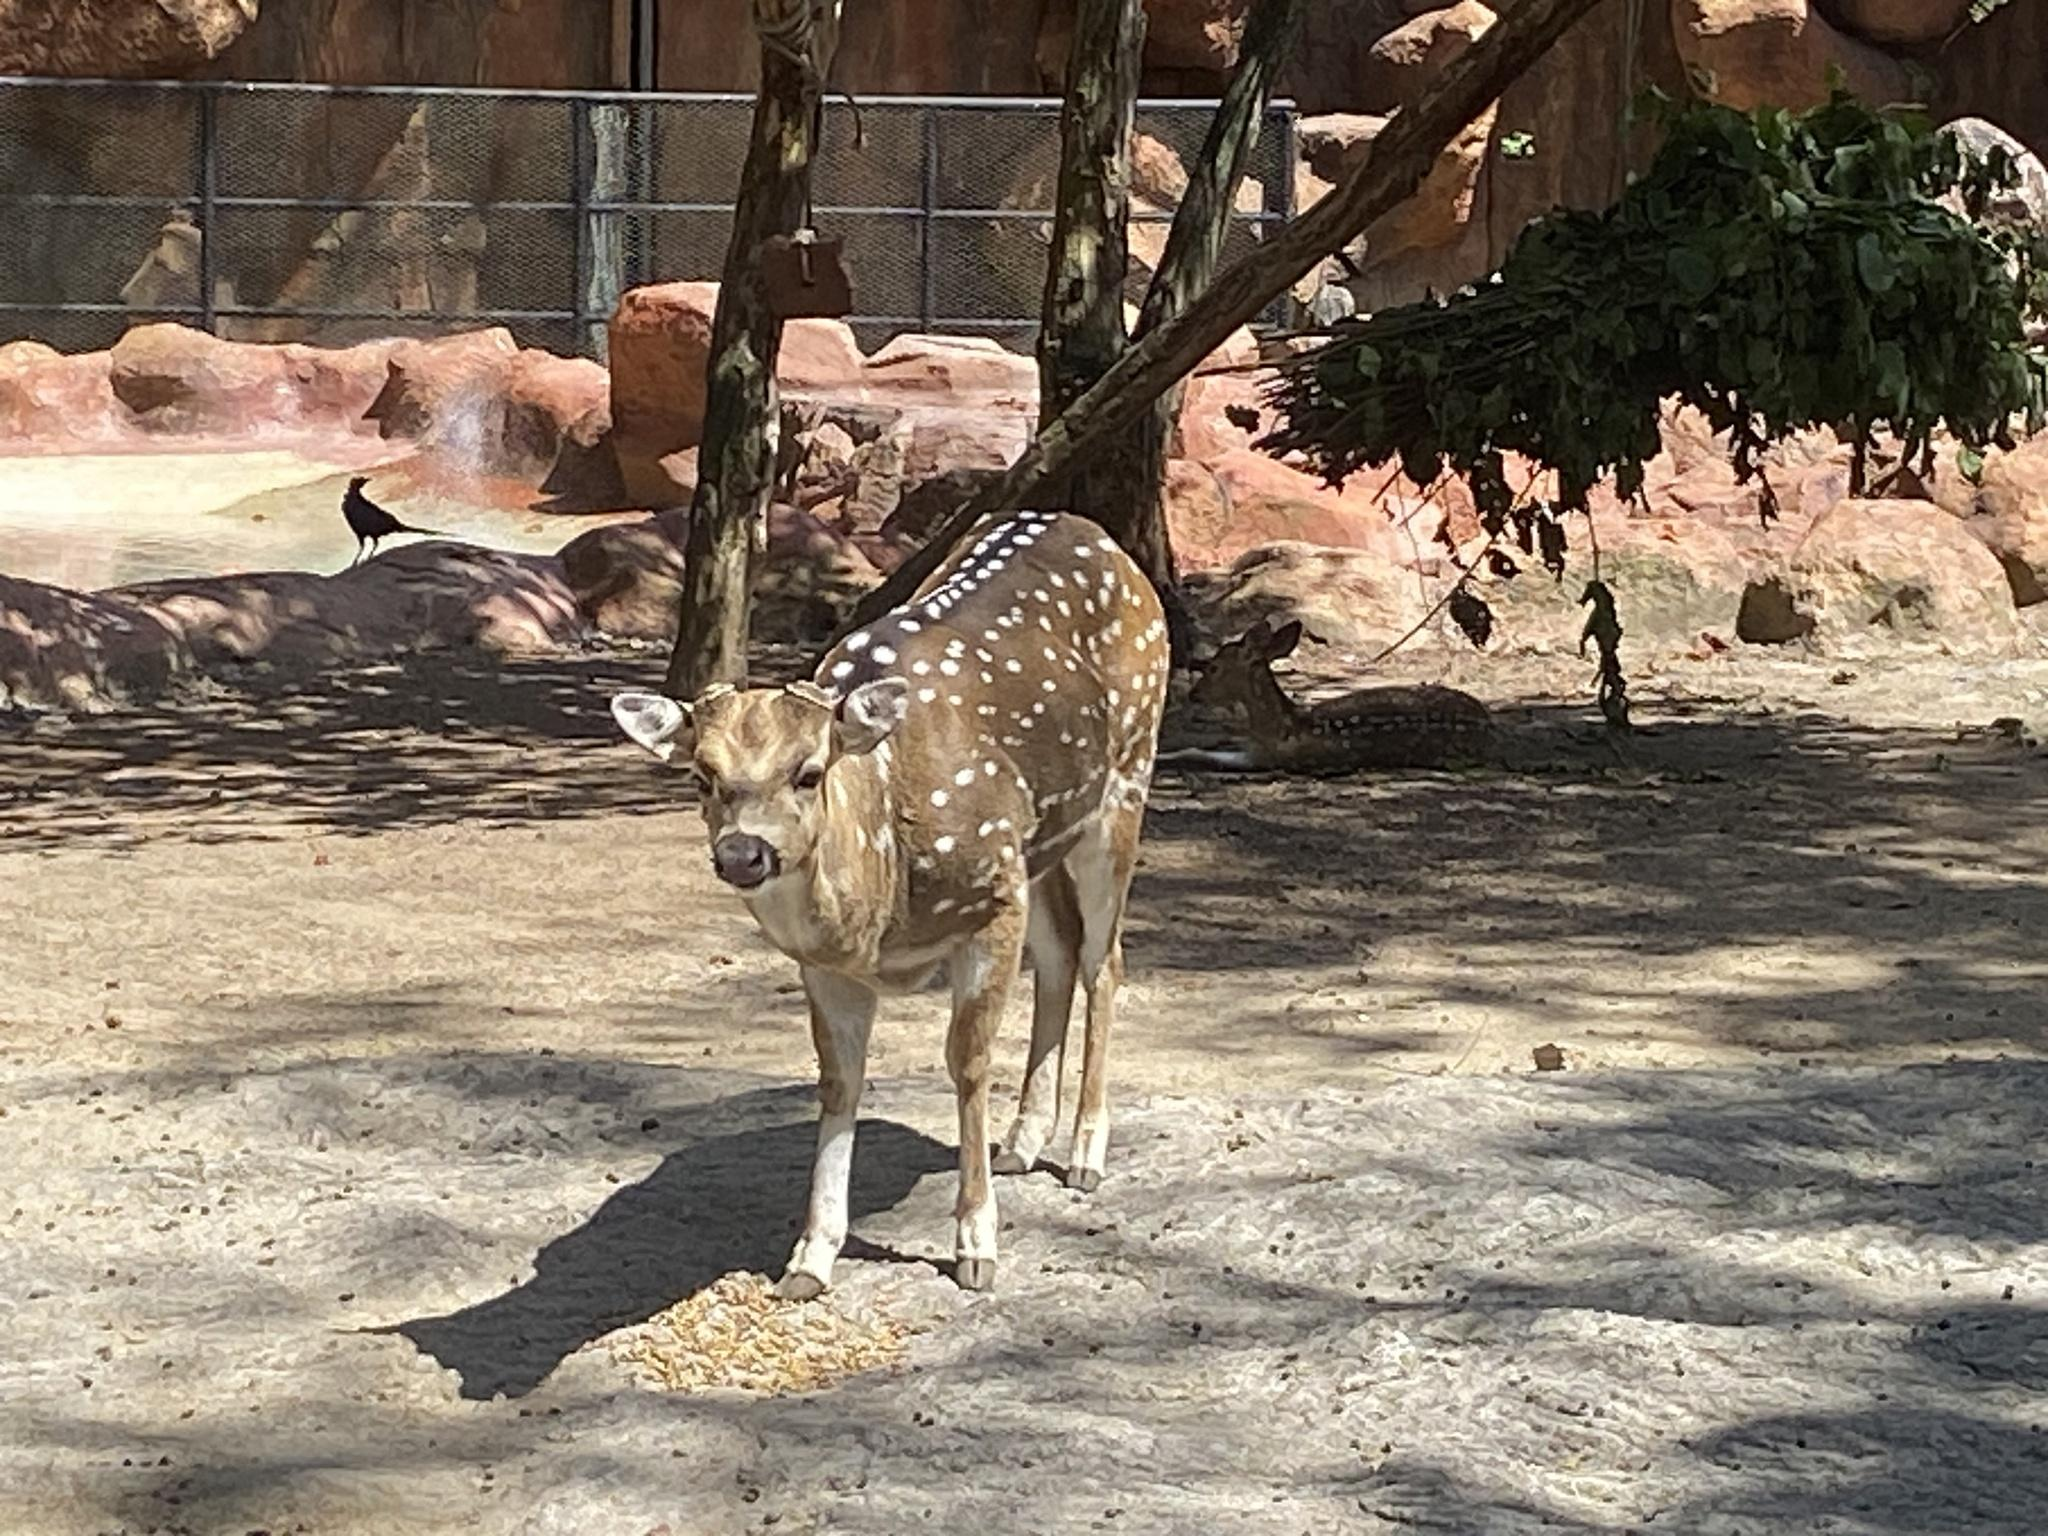Deer: (613, 511, 1171, 1297)
